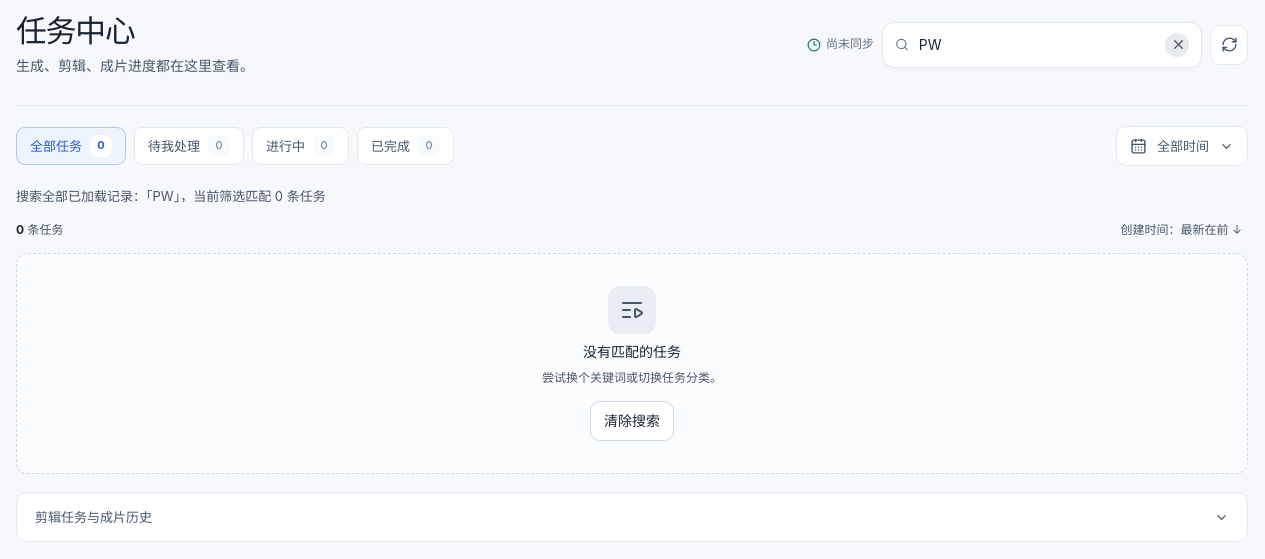
Test case: 任务中心手动刷新 › 点击刷新会查询任务与剪辑状态，防止重复点击并保留当前搜索条件
Later steps or results of the test are not shown.
What coordinates should you click on to do the following:
click the button named "刷新任务状态"
I would click on:
 (1229, 44)
Its box is [1210,24,1248,64].
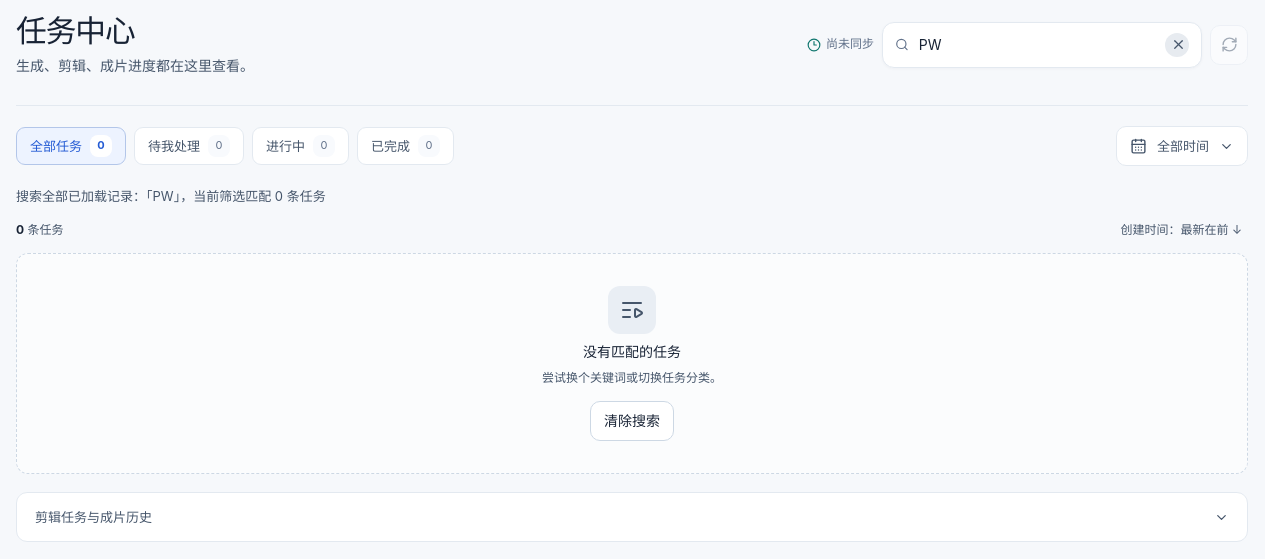
Expected: the button named "刷新任务状态" is disabled
What coordinates should you click on to do the following:
click the button named "刷新任务状态"
I would click on:
 (1229, 44)
Its box is [1210,24,1248,64].
Wait 5000 ms
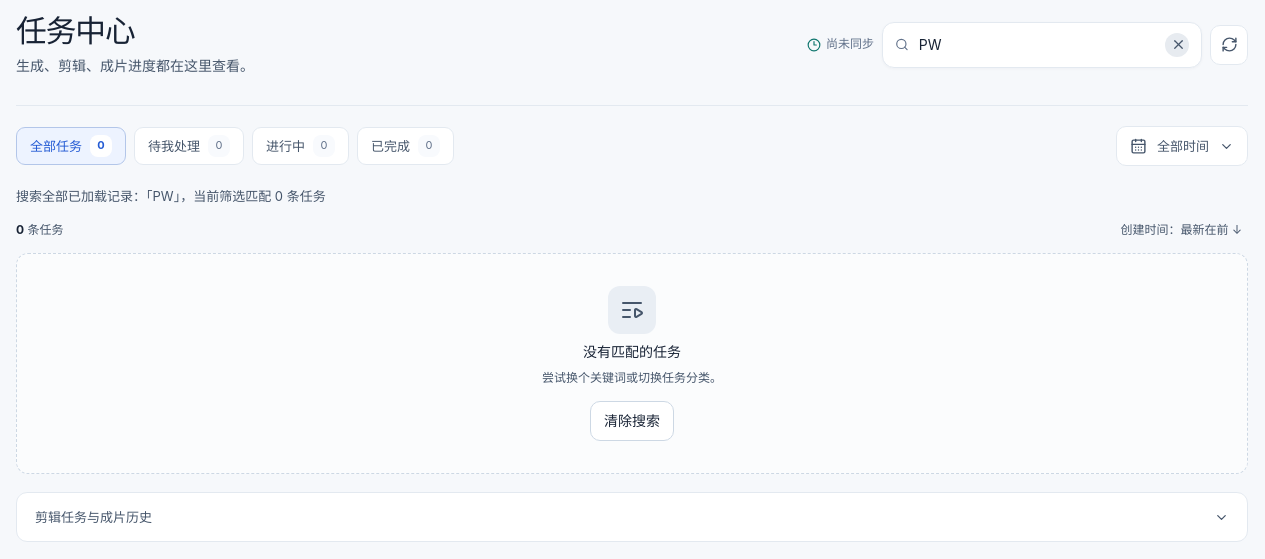
Expected: the field named "搜索任务名称、编号或品牌" holds "PW", [917,33,1157,56]
Expected: the button named "刷新任务状态" is enabled, [1210,24,1248,64]
